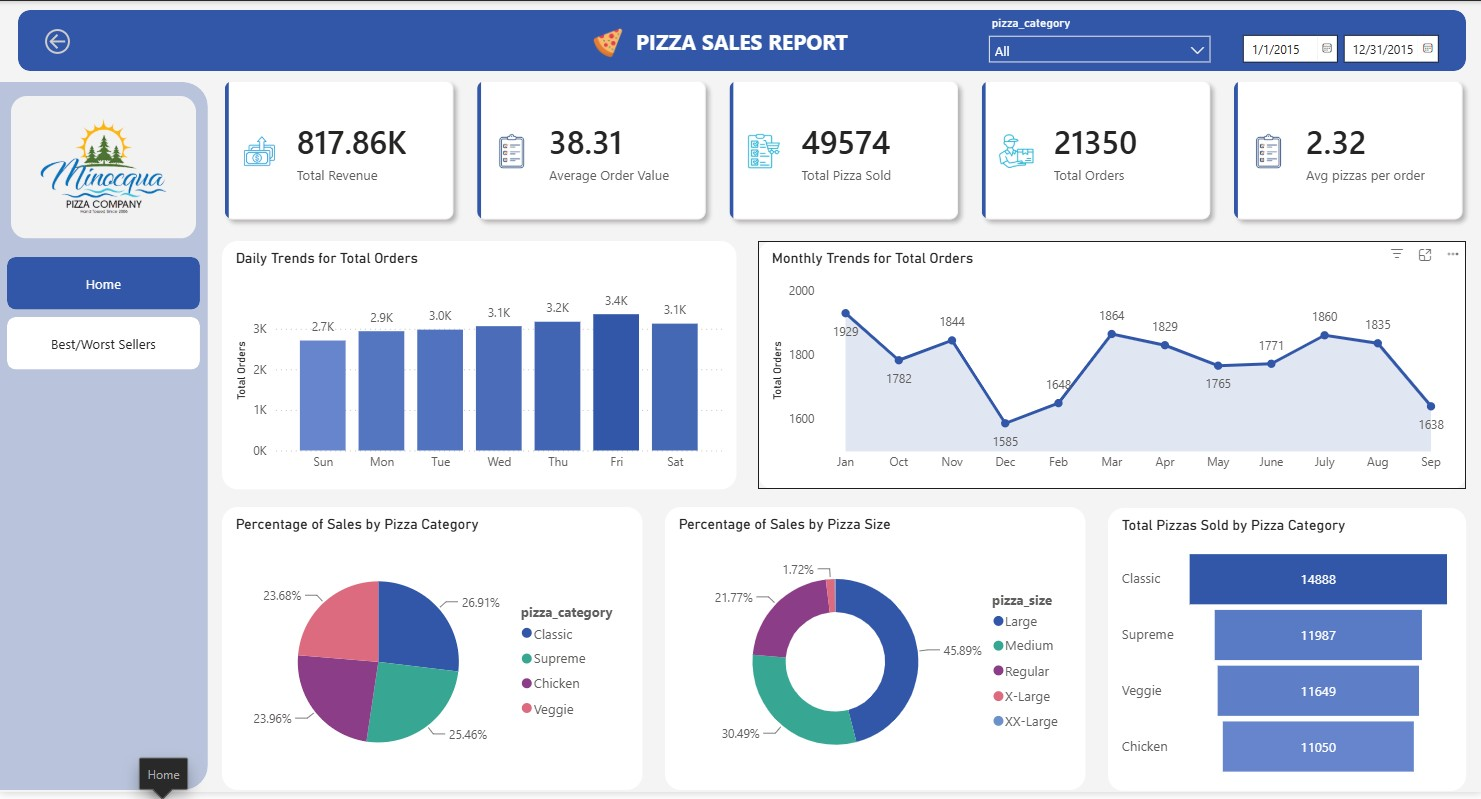

This screenshot's page, from the dashboard's own definition file:
{"tool":"powerbi","page":{"name":"Home","canvas":[1500,800],"ordinal":0},"visuals":[{"type":"cardVisual","fields":{"Data":["KPI_Measures.Total_Revenue","pizza_sales.AOV","KPI_Measures.Total_Pizza_Sold","KPI_Measures.Total_Orders","pizza_sales.Avg_pizzas_per_order"]},"box":[211.3,68.6,1288.7,164.8],"z":0},{"type":"columnChart","title":"Daily Trends for Total Orders","fields":{"Y":["KPI_Measures.Total Orders"],"Category":["pizza_sales.Custom"]},"box":[225.8,242.9,519.8,250.8],"z":1000},{"type":"areaChart","title":"Monthly Trends for Total Orders","fields":{"Category":["pizza_sales.Months Name"],"Y":["KPI_Measures.Total Orders"]},"box":[767.2,242.9,715.8,250.8],"z":2000},{"type":"pieChart","title":"Percentage of Sales by Pizza Category","fields":{"Category":["pizza_sales.pizza_category"],"Y":["KPI_Measures.Total Revenue"]},"box":[225.8,511.7,425,286.1],"z":3000},{"type":"donutChart","title":"Percentage of Sales by Pizza Size","fields":{"Category":["pizza_sales.pizza_size"],"Y":["KPI_Measures.Total Revenue"]},"box":[673.2,511.3,424.5,286.1],"z":4000},{"type":"funnel","title":"Total Pizzas Sold by Pizza Category","fields":{"Category":["pizza_sales.pizza_category"],"Y":["KPI_Measures.Total Pizza Sold"]},"box":[1121.1,512.3,361.7,286.1],"z":5000},{"type":"shape","box":[19.2,9.1,1463.6,61.7],"z":6000},{"type":"shape","box":[0,81.9,211.3,715.6],"z":7000},{"type":"slicer","fields":{"Values":["pizza_sales.pizza_category"]},"box":[990.6,10.1,243.6,59.6],"z":8000},{"type":"slicer","fields":{"Values":["pizza_sales.order_date"]},"box":[1244.3,24.2,223.4,42.5],"z":9000},{"type":"pageNavigator","box":[8.1,258.7,195.1,53.6],"z":10000},{"type":"pageNavigator","box":[8.1,319.4,195.1,53.6],"z":11000},{"type":"actionButton","box":[41.4,20.2,35.4,40.4],"z":12000},{"type":"image","box":[600.4,26.3,30.3,32.3],"z":13000},{"type":"image","box":[12.1,96,187,143.5],"z":13001}]}

Visuals, with their boxes in screenshot pixels (x1, y1, x2, y2), scaled from the page's 1500x800 canvas onto the 1481x799 screenshot:
cardVisual - KPI_Measures.Total_Revenue x pizza_sales.AOV: l=209, t=69, r=1480, b=233
"Daily Trends for Total Orders" columnChart: l=223, t=243, r=736, b=493
"Monthly Trends for Total Orders" areaChart: l=757, t=243, r=1464, b=493
"Percentage of Sales by Pizza Category" pieChart: l=223, t=511, r=643, b=797
"Percentage of Sales by Pizza Size" donutChart: l=665, t=511, r=1084, b=796
"Total Pizzas Sold by Pizza Category" funnel: l=1107, t=512, r=1464, b=797
shape: l=19, t=9, r=1464, b=71
shape: l=0, t=82, r=209, b=797
slicer - pizza_sales.pizza_category: l=978, t=10, r=1219, b=70
slicer - pizza_sales.order_date: l=1229, t=24, r=1449, b=67
pageNavigator: l=8, t=258, r=201, b=312
pageNavigator: l=8, t=319, r=201, b=373
actionButton: l=41, t=20, r=76, b=61
image: l=593, t=26, r=623, b=59
image: l=12, t=96, r=197, b=239
